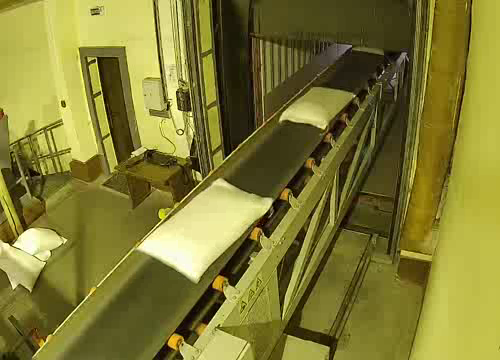bag: (131, 177, 280, 285), (272, 83, 363, 130), (348, 44, 386, 58)
